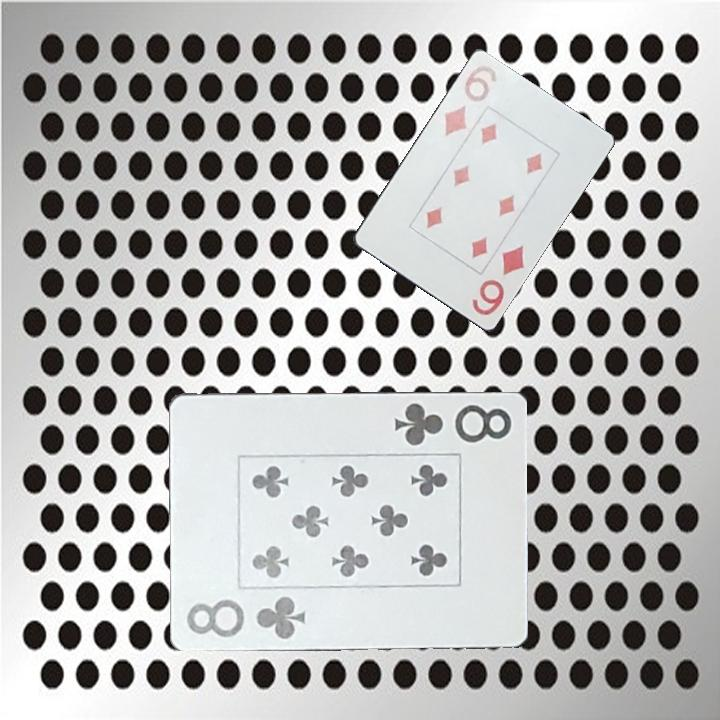6d: (440, 61, 500, 139), (468, 241, 527, 320)
8c: (183, 592, 308, 642), (391, 399, 515, 448)
